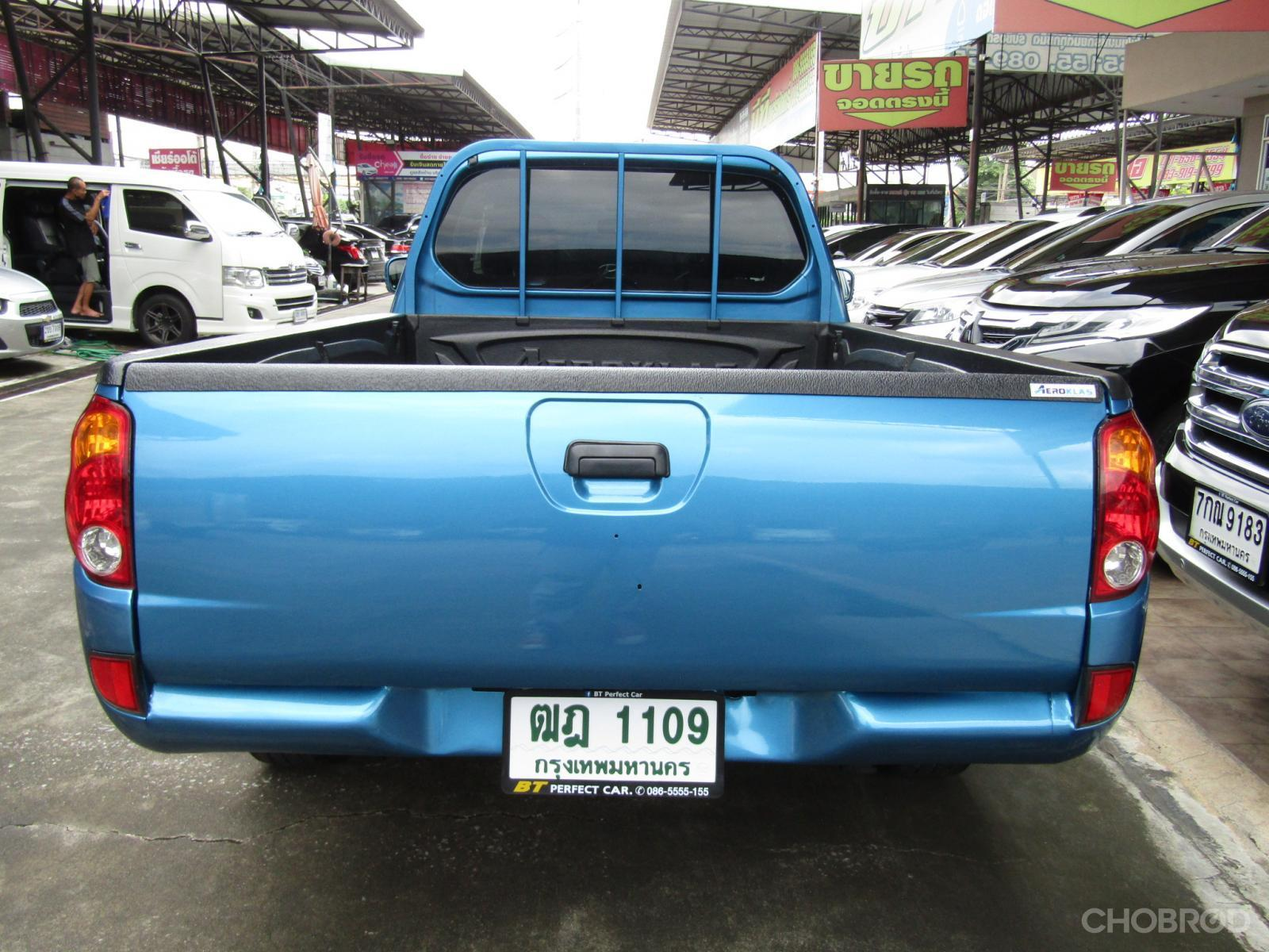license-plate: (504, 690, 727, 805), (1190, 479, 1268, 586), (39, 319, 68, 344), (290, 305, 312, 328)
